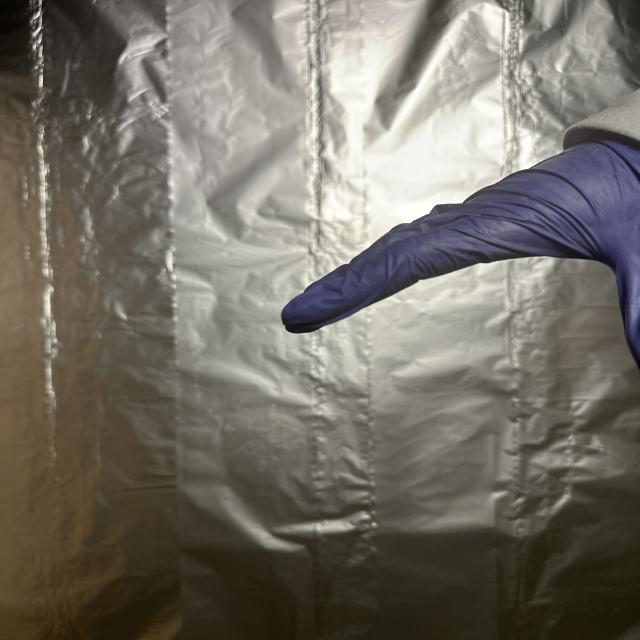gloves_contaminated: (282, 105, 640, 367)
